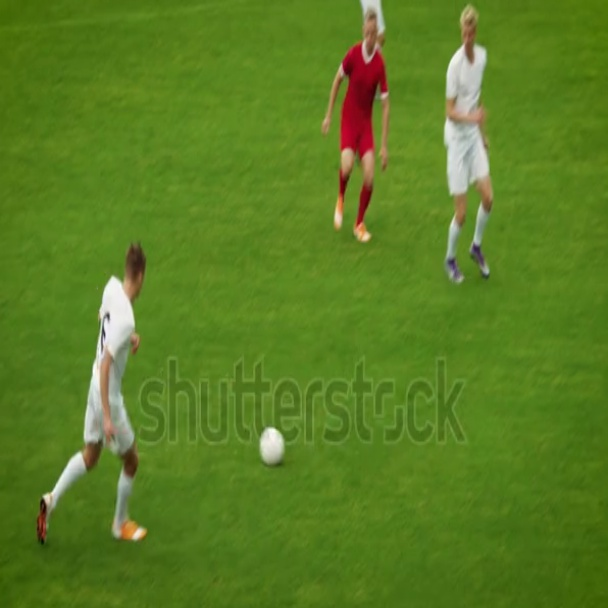ball: (255, 423, 286, 471)
